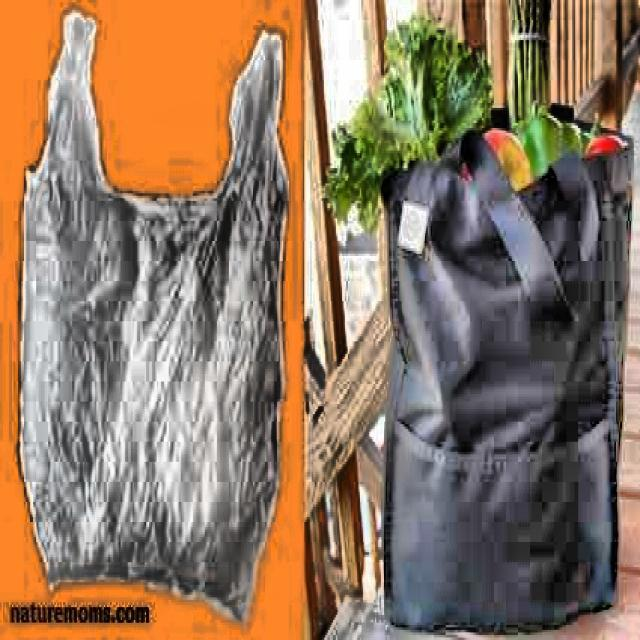Plastic: (18, 8, 299, 637)
